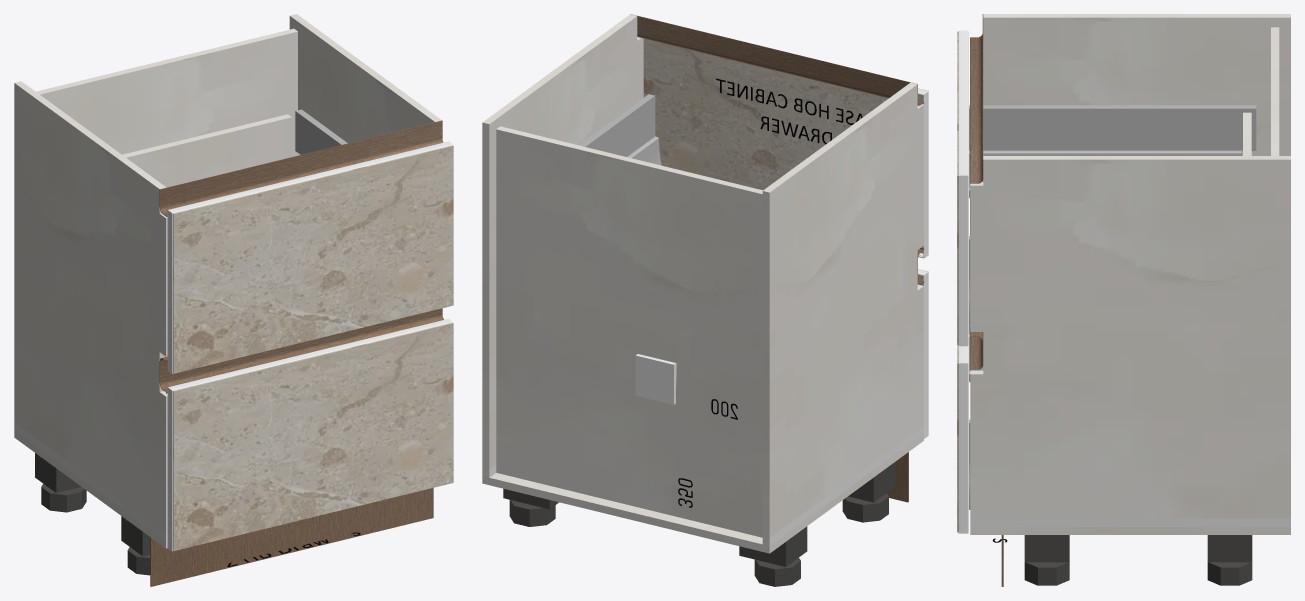
The model's file is BHC2EH_CJ  (H720xW600xD560).glb.
3 views of the same model, side by side, from view 1: azimuth 30°, elevation 25°; view 2: azimuth 150°, elevation 25°; view 3: azimuth 270°, elevation 25° (orthographic). The views are drawn at different scales.
Size of what is drawn, in the model's own units: 0.6 by 0.82 by 0.5809.
Materials: 11 (3 with a texture image).
